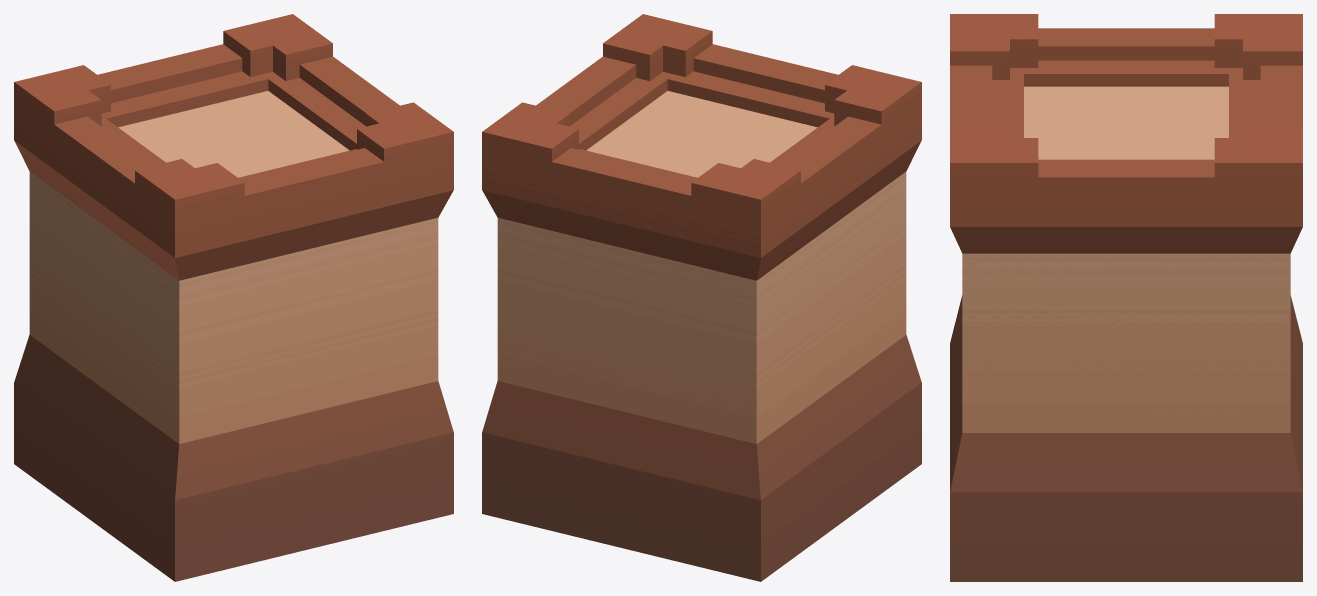
The model's file is tower-square.glb.
3 renders of one model, left to right at view 1: azimuth 30°, elevation 25°; view 2: azimuth 150°, elevation 25°; view 3: azimuth 270°, elevation 25°, orthographic. The views are drawn at different scales.
Parts seen in each view (by area): view 1: tower-square; view 2: tower-square; view 3: tower-square.
Part boxes in pixels (x1,y1,x2,y2): tower-square: (14, 14, 453, 581); tower-square: (482, 14, 921, 581); tower-square: (950, 14, 1302, 581).
Bounding box in the file's own units: 3 × 3.93 × 3.
1 material, 1 textured.
